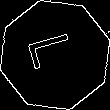L_E: (27, 33, 83, 77)
